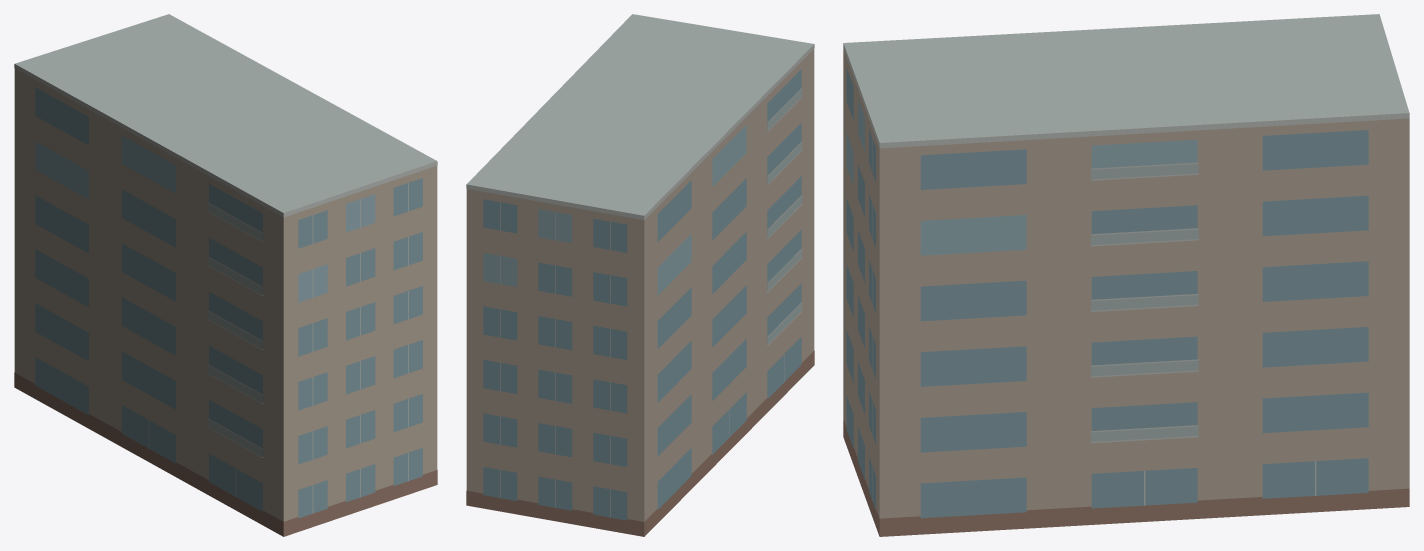
Rendered from survey-upis-32923842.glb.
The picture shows the model from 3 angles, left to right: view 1: azimuth 30°, elevation 25°; view 2: azimuth 150°, elevation 25°; view 3: azimuth 270°, elevation 25°; orthographic projection. The views are drawn at different scales.
Visible parts, largest first — view 1: survey-upis-32923842.tmp; view 2: survey-upis-32923842.tmp; view 3: survey-upis-32923842.tmp.
Part boxes in pixels (bbox=[...]): survey-upis-32923842.tmp: bbox=[14, 14, 437, 536]; survey-upis-32923842.tmp: bbox=[466, 14, 814, 536]; survey-upis-32923842.tmp: bbox=[843, 14, 1409, 536].
Size of the model in its own units: 12.59 by 17.9 by 23.34.
